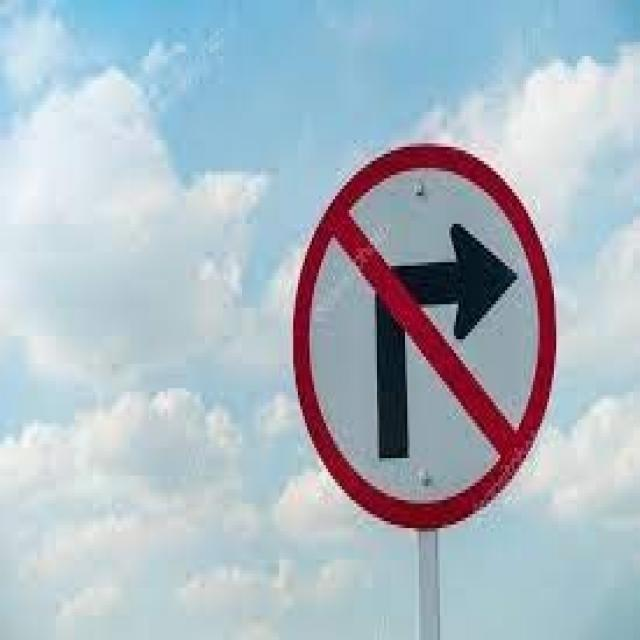do_not_turn_right: (288, 131, 560, 540)
